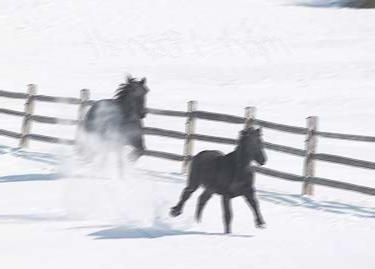horse: (168, 125, 266, 233), (76, 73, 150, 179)
